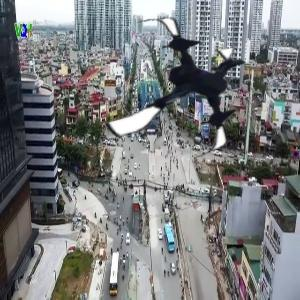drone: (97, 11, 255, 169)
